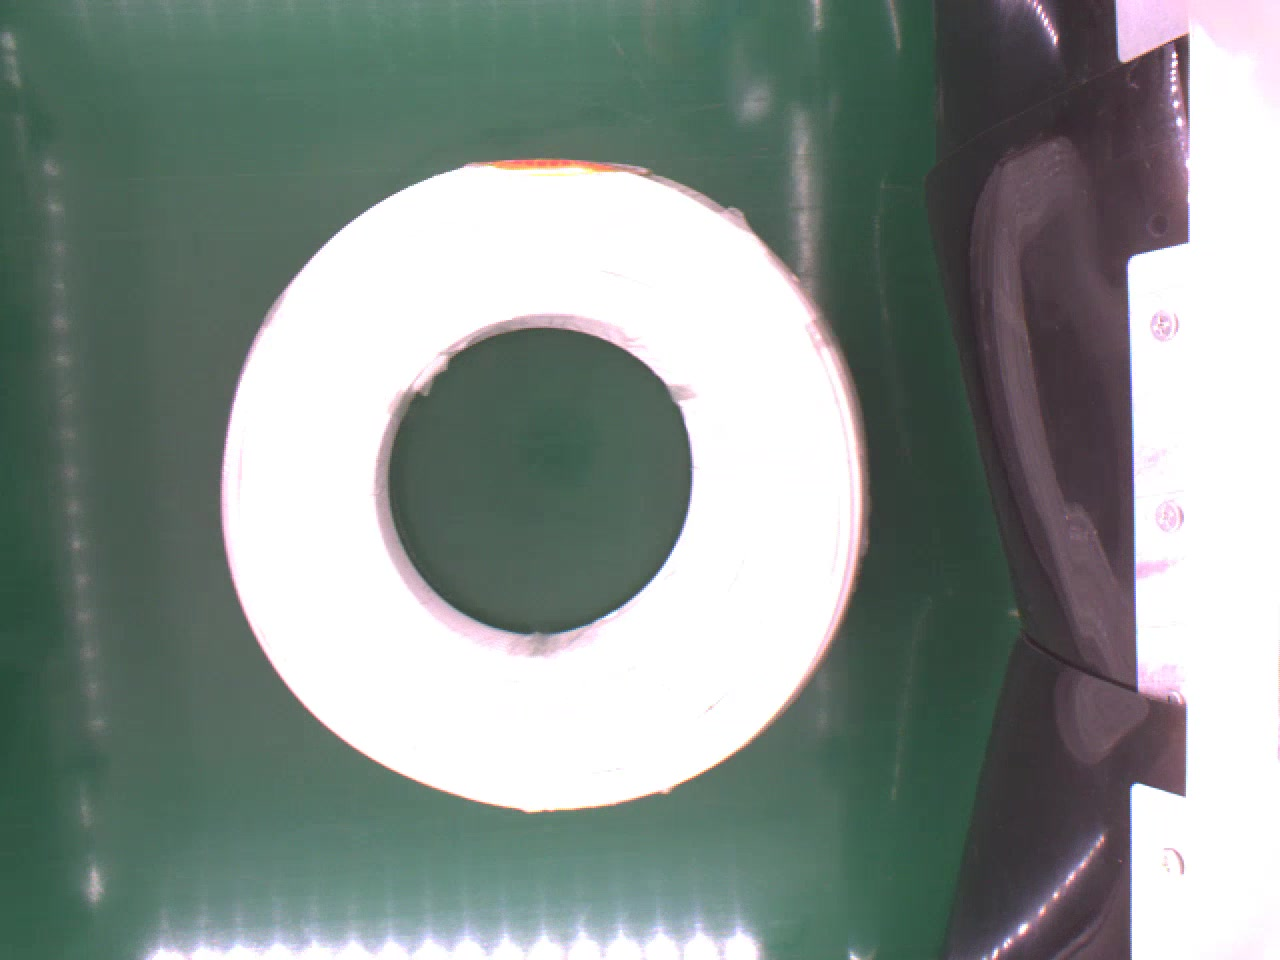white: (218, 150, 873, 809)
